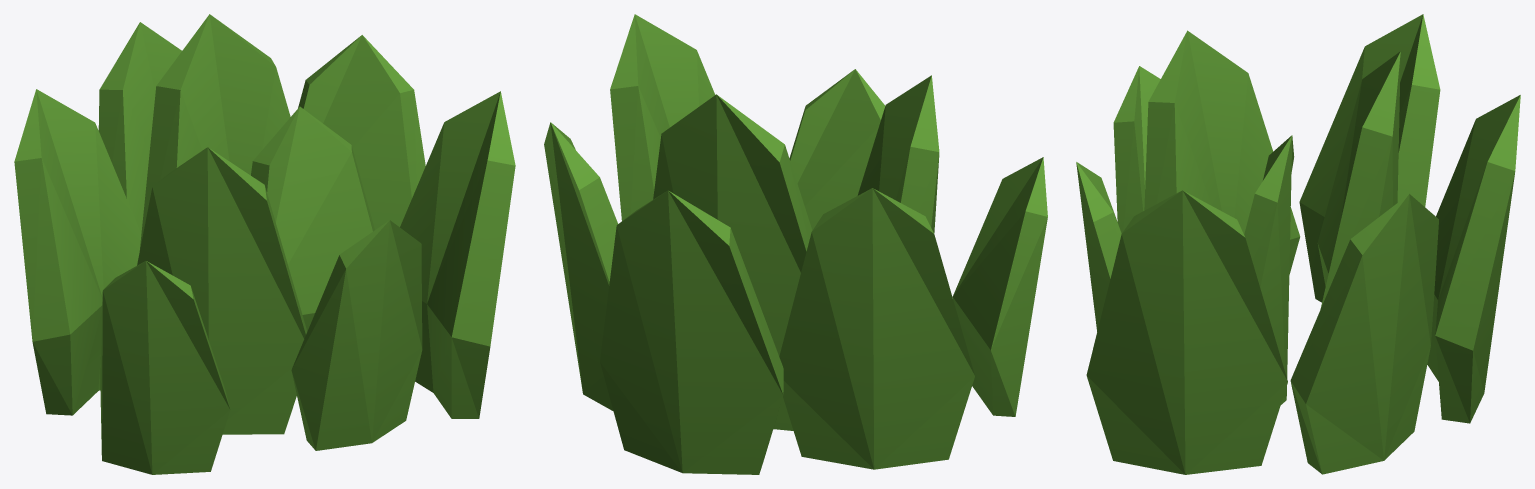
Rendered from plant_grass_2.glb.
The picture shows the model from 3 angles, left to right: view 1: azimuth 30°, elevation 25°; view 2: azimuth 150°, elevation 25°; view 3: azimuth 270°, elevation 25°; orthographic projection. The views are drawn at different scales.
Parts seen in each view (by area): view 1: plant_grass_2; view 2: plant_grass_2; view 3: plant_grass_2.
Boxes of the visible parts, bbox=[...] form: plant_grass_2: bbox=[14, 14, 515, 474]; plant_grass_2: bbox=[544, 14, 1047, 474]; plant_grass_2: bbox=[1076, 14, 1520, 474].
Bounding box in the file's own units: 0.747 × 0.6 × 0.6978.
